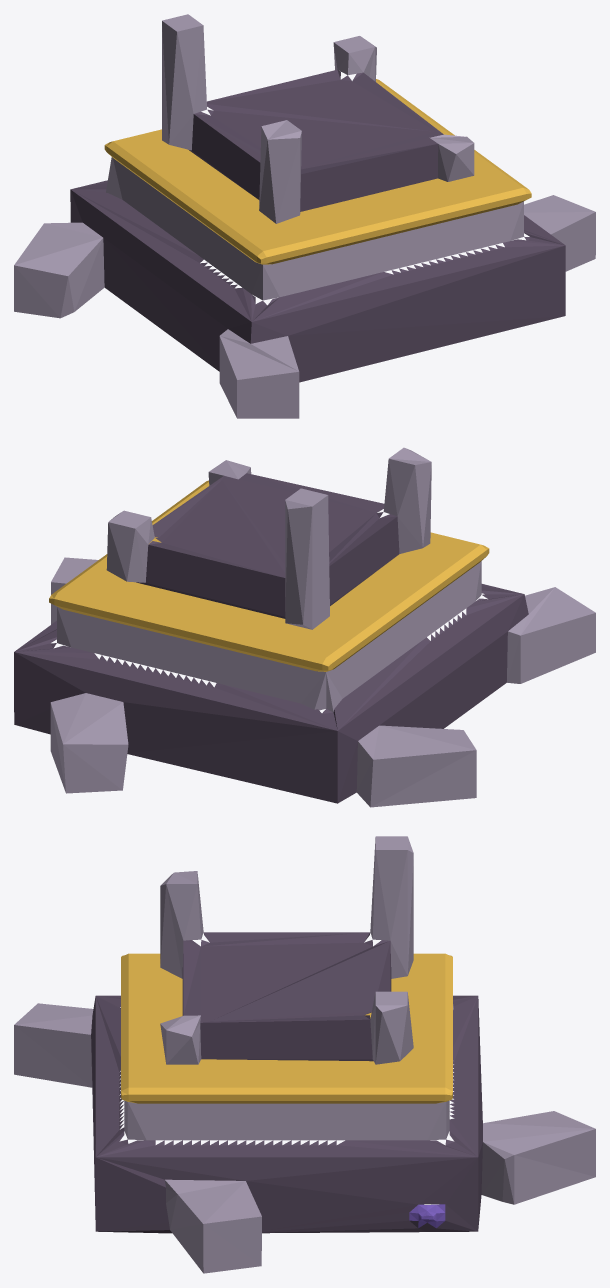
File: ward_pillar_broken.glb
3 views of the same model, one above another, from view 1: azimuth 30°, elevation 25°; view 2: azimuth 150°, elevation 25°; view 3: azimuth 270°, elevation 25° (orthographic). The views are drawn at different scales.
Parts seen in each view (by area): view 1: ward_pillar_broken; view 2: ward_pillar_broken; view 3: ward_pillar_broken.
Boxes of the visible parts, x1,y1,x2,y2 form: ward_pillar_broken: [14, 14, 595, 418]; ward_pillar_broken: [14, 447, 595, 807]; ward_pillar_broken: [14, 836, 595, 1273].
Bounding box in the file's own units: 1.7 × 0.8273 × 1.65.
